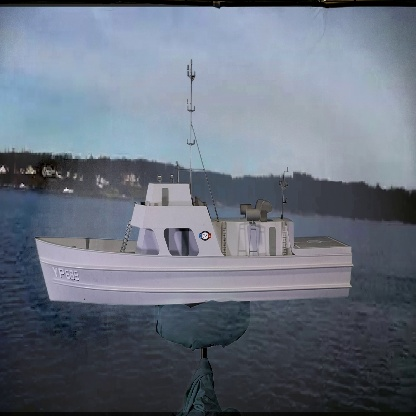YP689: (36, 61, 353, 309)
